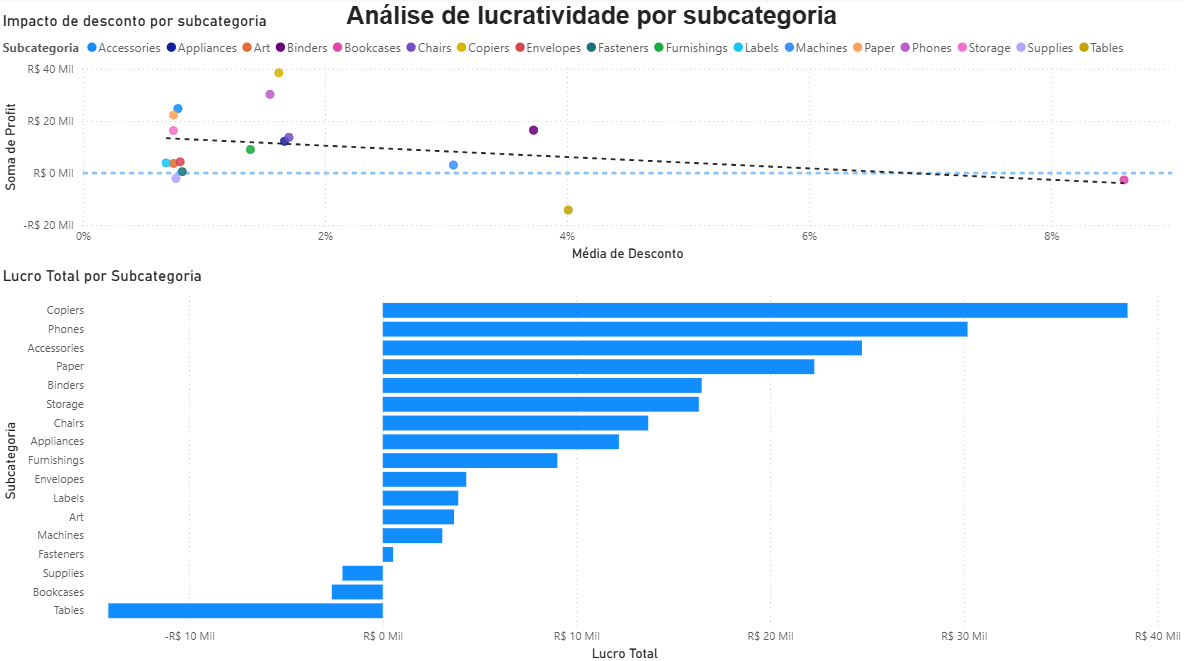

What the dashboard file says about the page in this screenshot:
{"tool":"powerbi","page":{"name":"Por subcategoria","canvas":[1280,720],"ordinal":2},"visuals":[{"type":"scatterChart","title":"Impacto de desconto por subcategoria","fields":{"X":["Avg(Sample - Superstore.Discount)"],"Y":["Sum(Sample - Superstore.Profit)"],"Series":["Sample - Superstore.Sub-Category"]},"box":[0,14.8,1280.3,274.9],"z":0},{"type":"clusteredBarChart","fields":{"Category":["Sample - Superstore.Sub-Category"],"Y":["Sample - Superstore.Lucro Total"]},"box":[0,289.7,1280.3,431.3],"z":2000},{"type":"textbox","box":[370.6,0,556.6,40.4],"z":4000}]}

Visuals, with their boxes in screenshot pixels (x1, y1, x2, y2), scaled from the page's 1280x720 canvas onto the 1184x661 screenshot:
"Impacto de desconto por subcategoria" scatterChart: box=[0, 14, 1183, 266]
clusteredBarChart - Sample - Superstore.Sub-Category x Sample - Superstore.Lucro Total: box=[0, 266, 1183, 660]
textbox: box=[343, 0, 858, 37]
